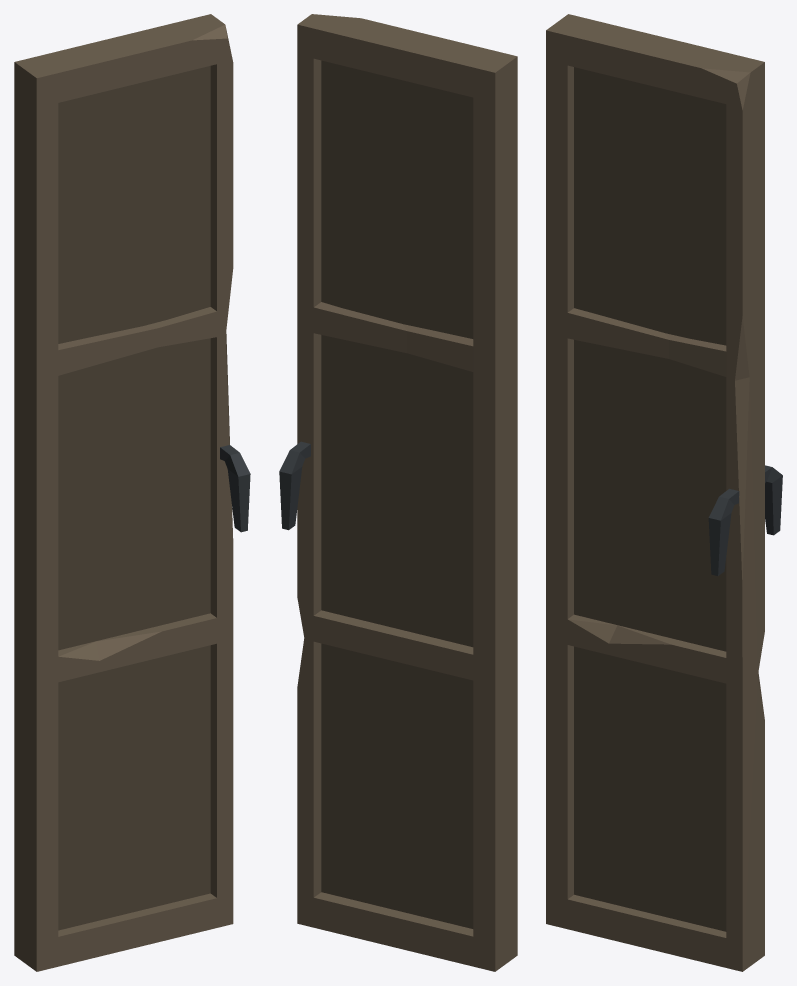
File: SM_Bld_Shop_Door_02_L.glb
3 renders of one model, left to right at view 1: azimuth 30°, elevation 25°; view 2: azimuth 150°, elevation 25°; view 3: azimuth 330°, elevation 25°, orthographic.
Visible parts, largest first — view 1: SM_Bld_Shop_Door_02_L; view 2: SM_Bld_Shop_Door_02_L; view 3: SM_Bld_Shop_Door_02_L.
Boxes of the visible parts, x1=… form: SM_Bld_Shop_Door_02_L: x1=14, y1=14, x2=250, y2=971; SM_Bld_Shop_Door_02_L: x1=279, y1=14, x2=517, y2=971; SM_Bld_Shop_Door_02_L: x1=546, y1=14, x2=782, y2=971.
Size of the model in its own units: 0.5121 by 2.22 by 0.2805.
1 material, 1 textured.
